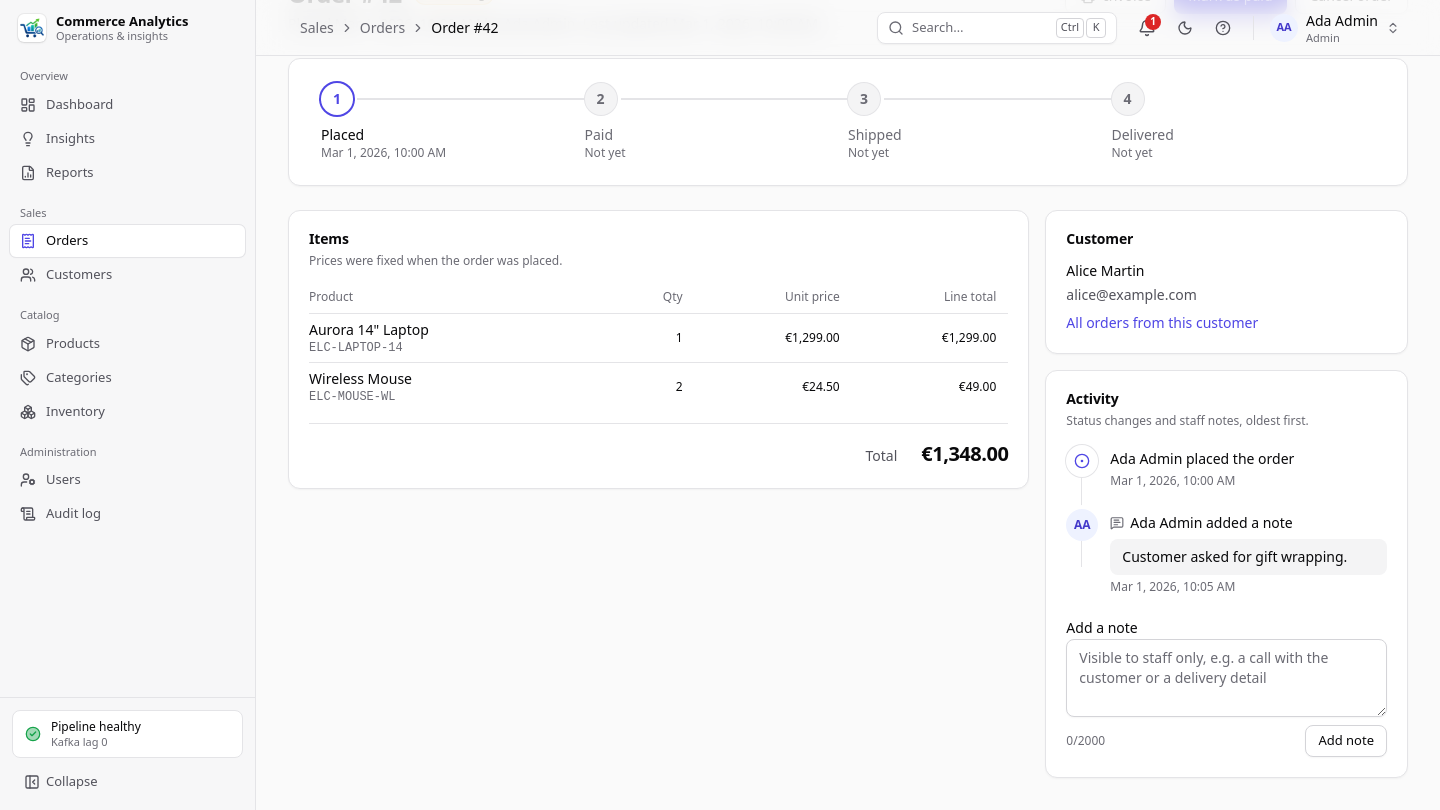
Test: order detail › adds a note
(page scrolled)
Click the button "Add note" at (1346, 741), box [1305,725,1387,757]
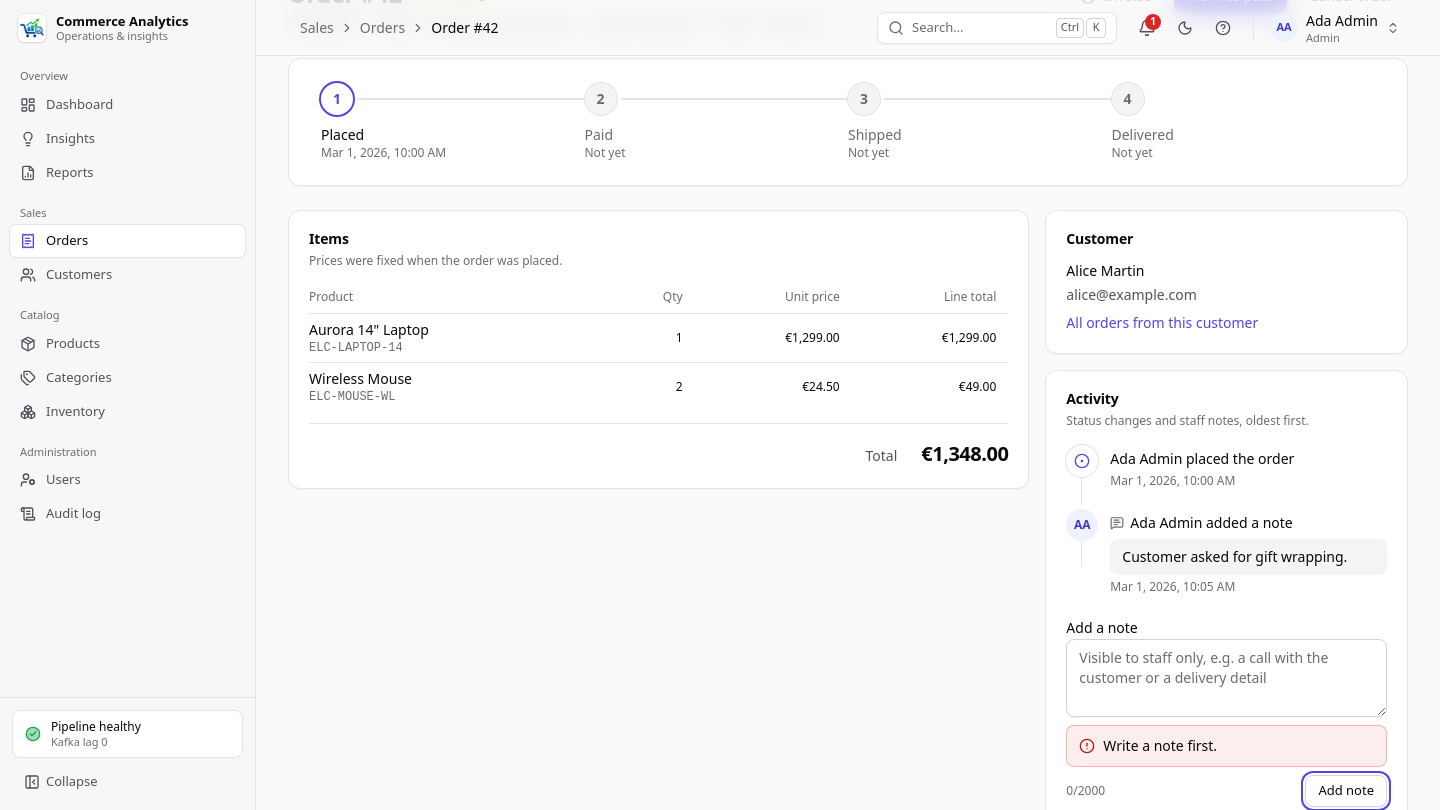
Expected: the message "Write a note first." is shown, [1066,725,1387,767]
Type "  Called the courier " into the text box labelled "Add a note" at (1227, 678), box [1066,639,1387,717]
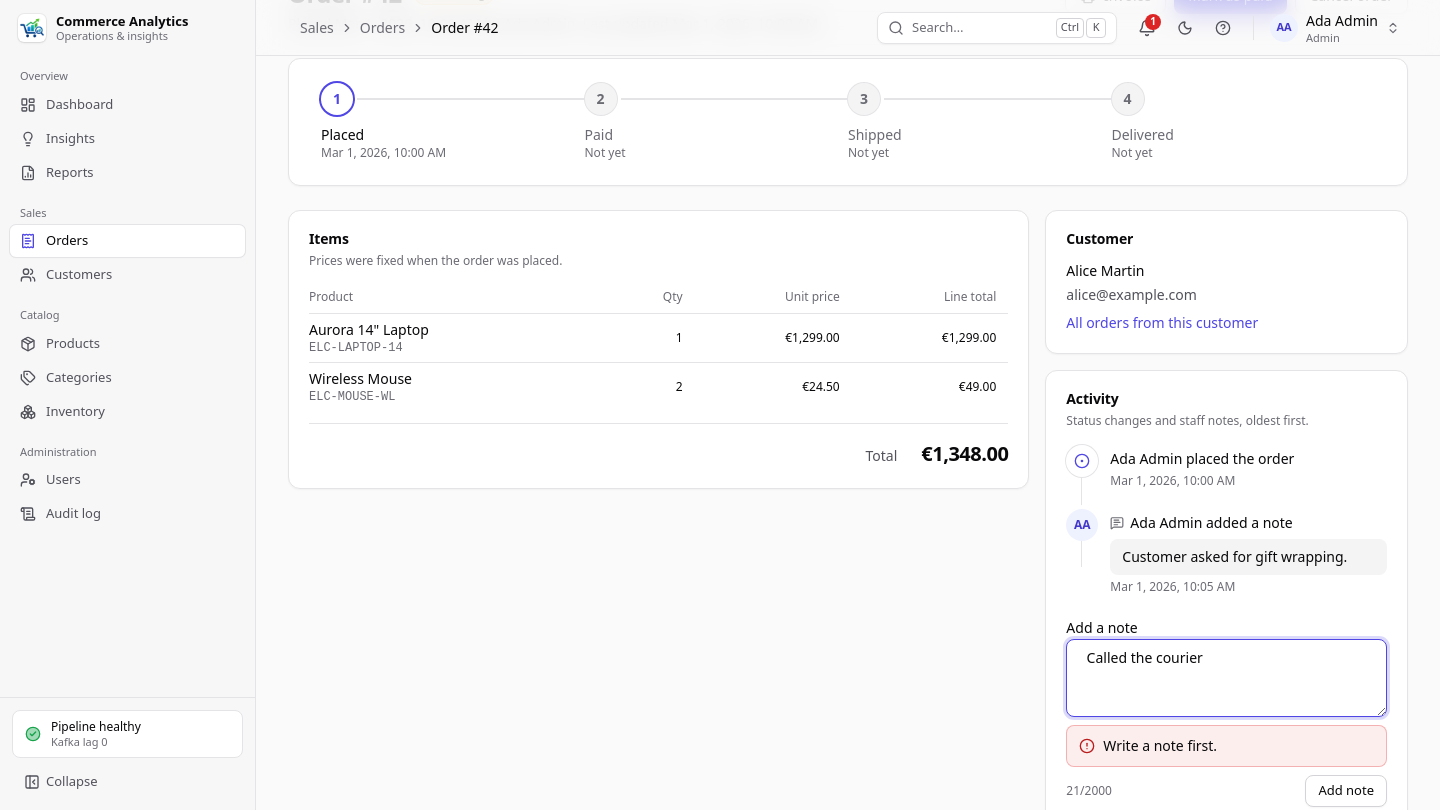
Click the button "Add note" at (1346, 791), box [1305,775,1387,807]
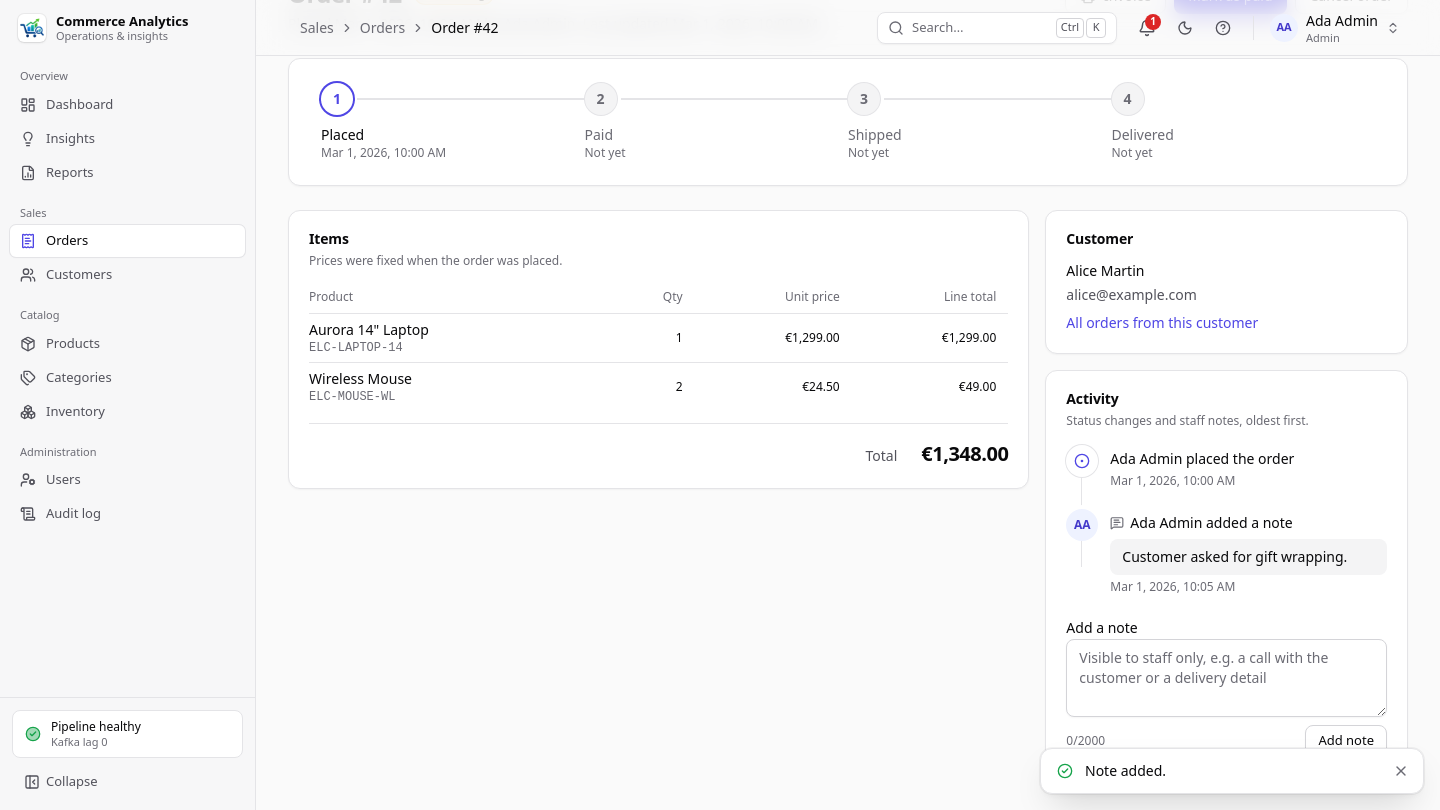
Expected: the text "Note added." is shown, [1085,761,1166,780]
Expected: the text box labelled "Add a note" is empty, [1066,639,1387,717]
